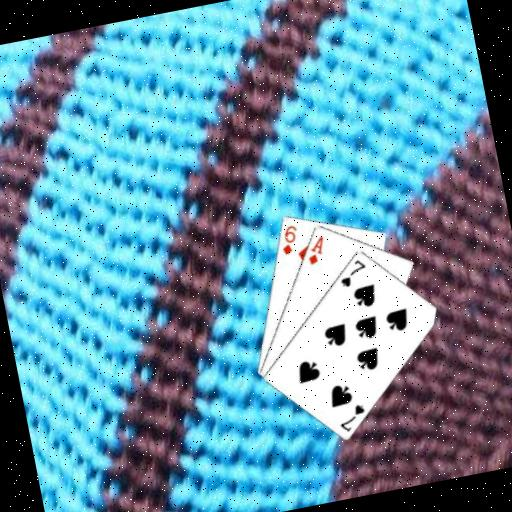6D: (275, 221, 303, 258)
7S: (333, 399, 370, 435), (334, 255, 371, 290)
AD: (301, 232, 330, 267)
